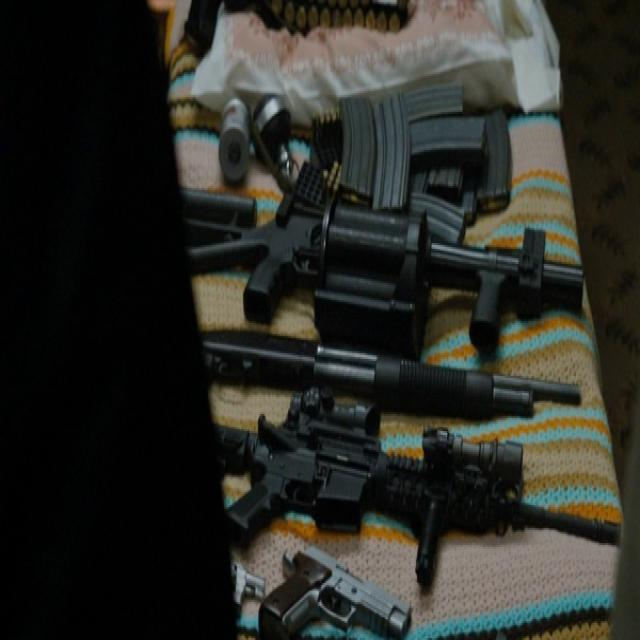rifle: (213, 386, 626, 583), (180, 189, 590, 364)
